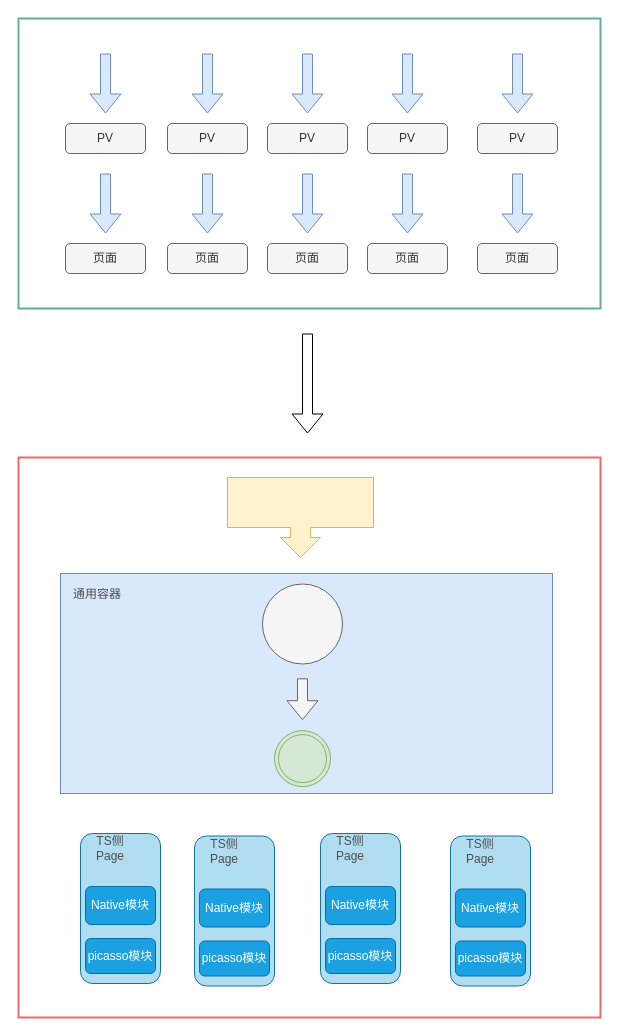
Image size: 618x1035. Some labels were removed from this diagram. The shapes that lost their labels are listed below. From the top down, each one's centre as x and y in pixels, then its label:
At (300,517): "带有协议的scheme".
At (302,623): "路由解析".
At (302,758): "PV打点".
